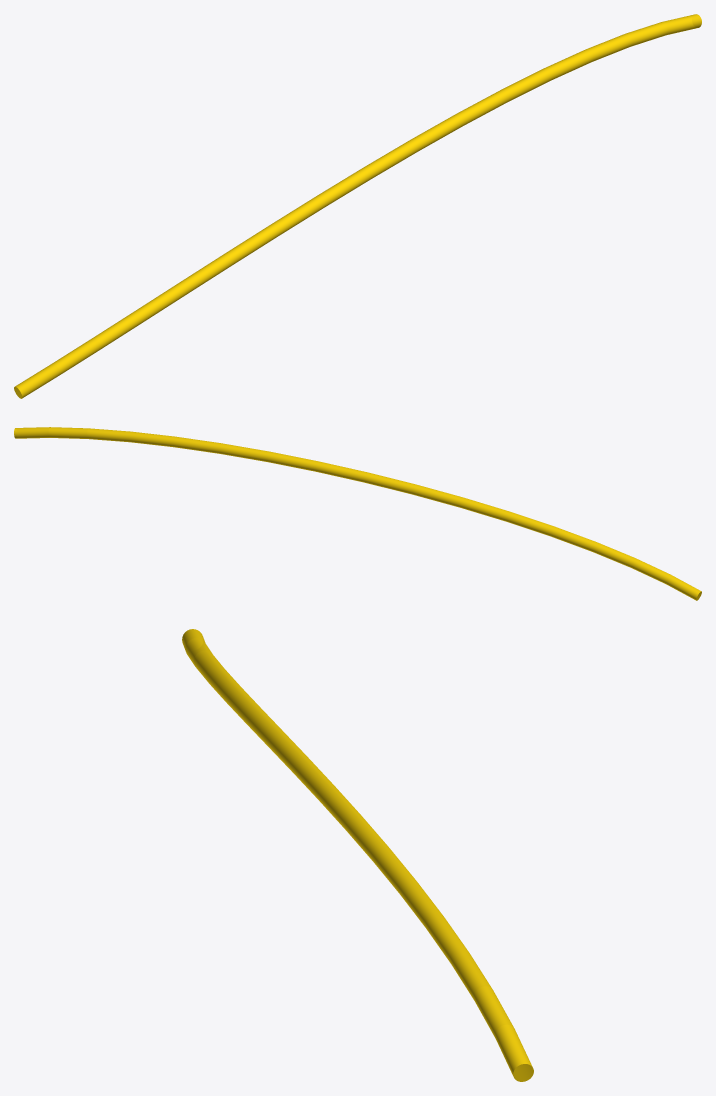
File: Event_420604493_track_18.fbx
3 views of the same model, one above another, from view 1: azimuth 30°, elevation 25°; view 2: azimuth 150°, elevation 25°; view 3: azimuth 270°, elevation 25° (orthographic). The views are drawn at different scales.
Parts seen in each view (by area): view 1: Model; view 2: Model; view 3: Model.
Part boxes in pixels (bbox=[...]): Model: bbox=[14, 14, 701, 398]; Model: bbox=[14, 427, 701, 600]; Model: bbox=[182, 629, 533, 1081].
Bounding box in the file's own units: 2.59 × 0.3899 × 0.6533.
